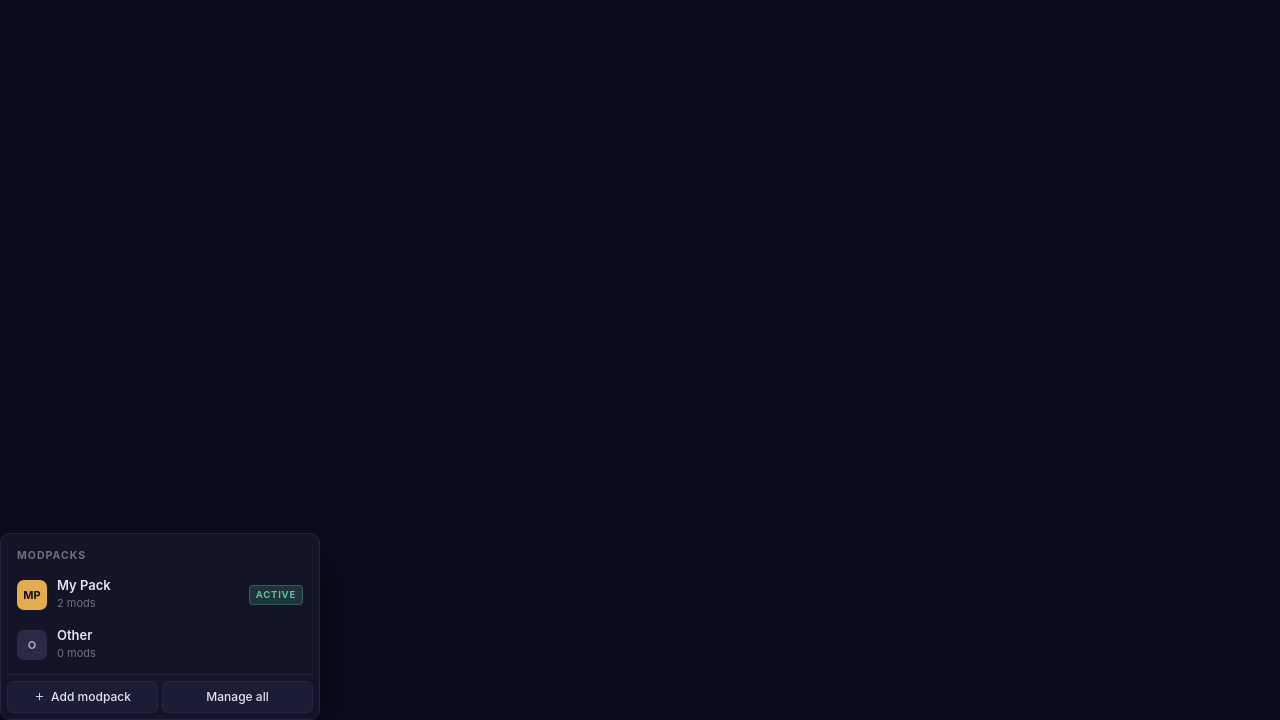
it: <ProfileSwitcher> › switches after confirming drift and reports missing restored-pack mods
This screenshot has width=1280, height=720.
(page scrolled)
Expected: the text "ACTIVE" is shown, x1=249 y1=585 x2=303 y2=605
Click the text "Other": click(75, 635) x1=57 y1=627 x2=92 y2=643
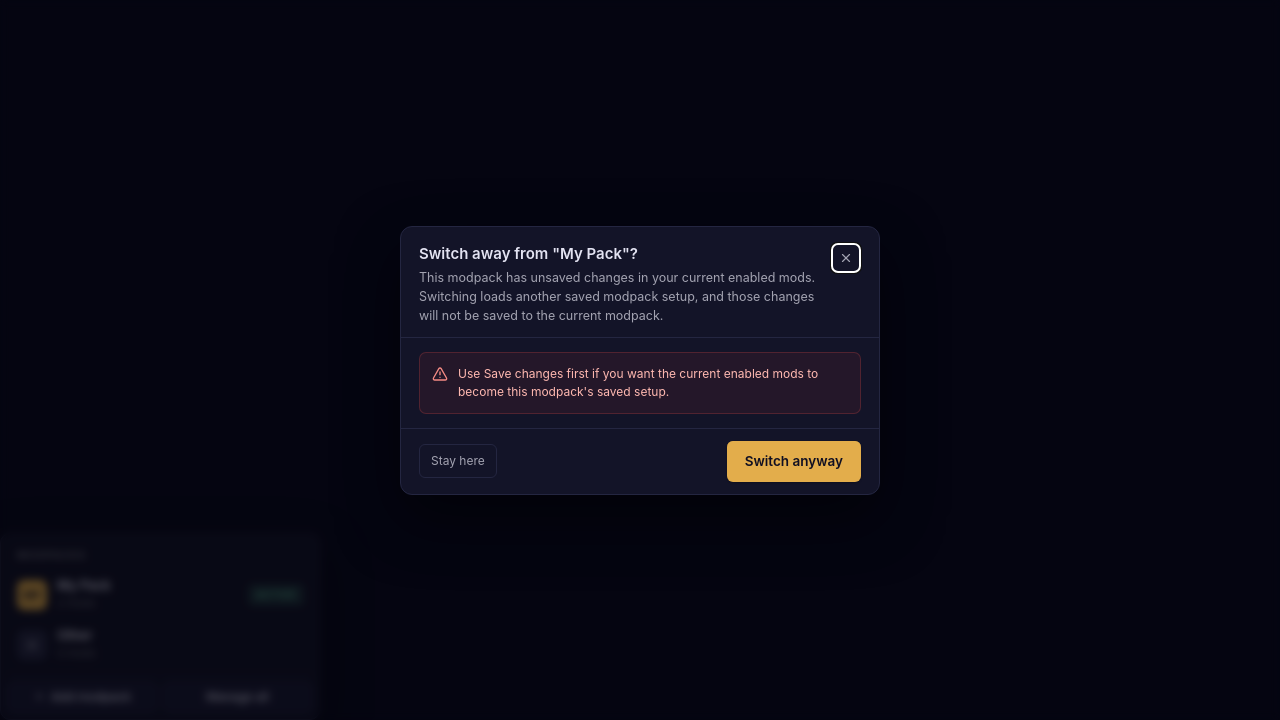
Click the button "Switch anyway": click(794, 461) x1=727 y1=441 x2=861 y2=482
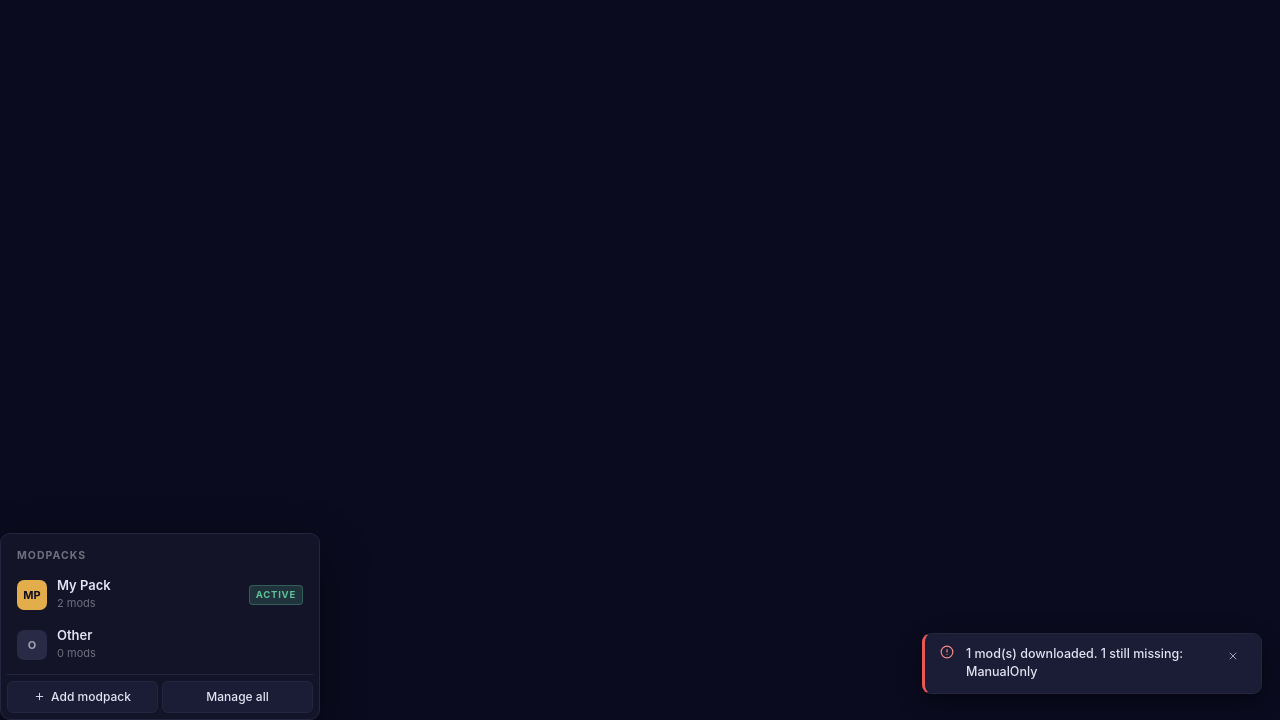
Now the text "1 mod(s) downloaded. 1 still missing: ManualOnly" is shown, box x1=966 y1=644 x2=1208 y2=682
